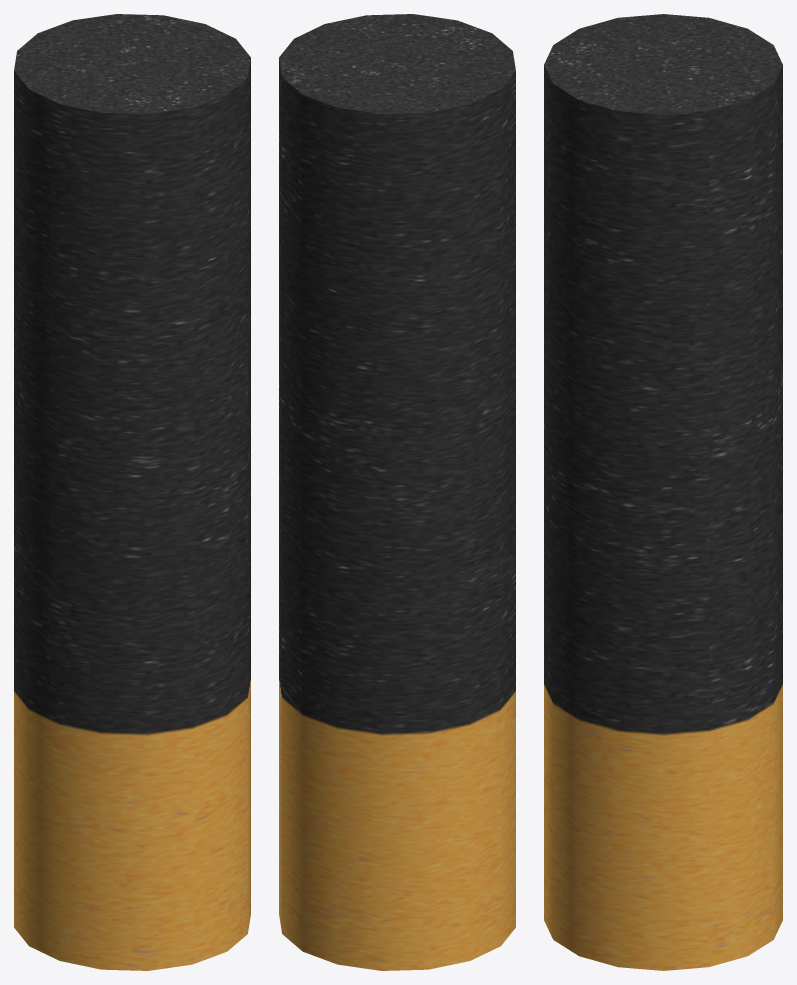
Rendered from Pillar_Large.fbx.
The picture shows the model from 3 angles, left to right: view 1: azimuth 30°, elevation 25°; view 2: azimuth 150°, elevation 25°; view 3: azimuth 270°, elevation 25°; orthographic projection.
Parts seen in each view (by area): view 1: Big_Pillar; view 2: Big_Pillar; view 3: Big_Pillar.
Boxes of the visible parts, box(x1,y1,x2,y2) form: Big_Pillar: box(14, 14, 250, 970); Big_Pillar: box(279, 14, 515, 970); Big_Pillar: box(544, 14, 782, 970).
Bounding box in the file's own units: 225 × 889 × 225.
